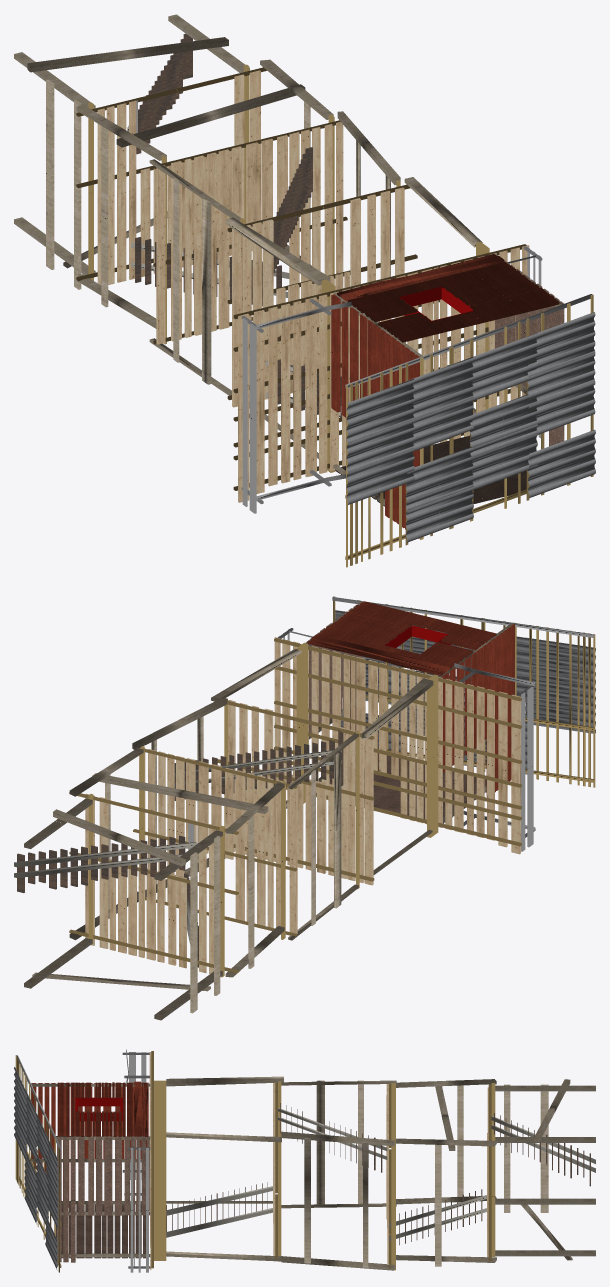
3 views of the same model, one above another, from view 1: azimuth 30°, elevation 25°; view 2: azimuth 150°, elevation 25°; view 3: azimuth 270°, elevation 25° (orthographic). The views are drawn at different scales.
Parts seen in each view (by area): view 1: skfb_offset; view 2: skfb_offset; view 3: skfb_offset.
Part boxes in pixels (left/top/right/bottom): skfb_offset: left=14, top=14, right=595, bottom=567; skfb_offset: left=14, top=596, right=595, bottom=1020; skfb_offset: left=14, top=1049, right=595, bottom=1272.
Size of the model in its own units: 6926 by 4342 by 17387.
10 materials, 6 textured.
